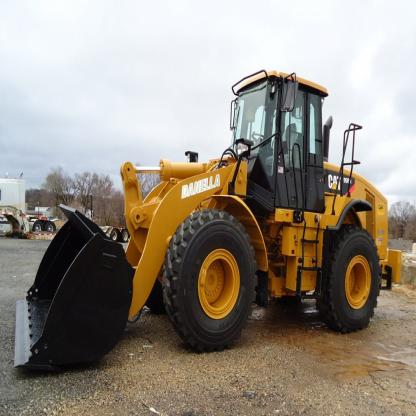bull_dozer/loader/grader: (15, 44, 412, 394)
